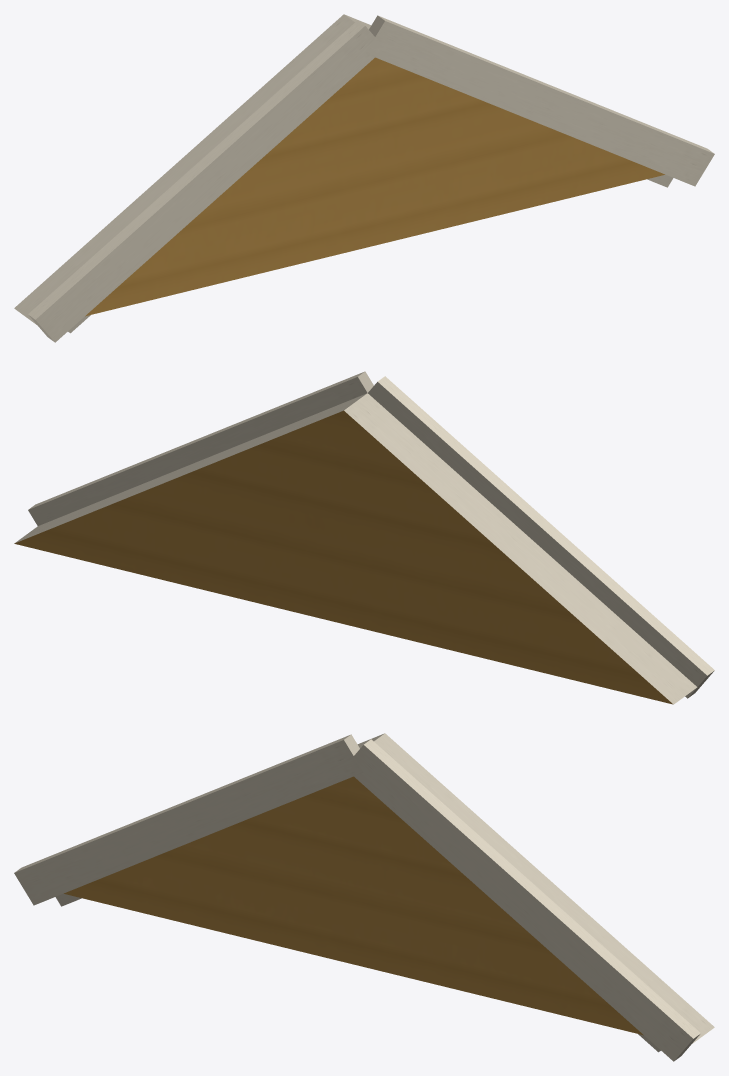
The model's file is house_03_gable.glb.
The picture shows the model from 3 angles, top to bottom: view 1: azimuth 30°, elevation 25°; view 2: azimuth 150°, elevation 25°; view 3: azimuth 330°, elevation 25°; orthographic projection.
Visible parts, largest first — view 1: outdoor_house_03_gable; view 2: outdoor_house_03_gable; view 3: outdoor_house_03_gable.
Boxes of the visible parts, x1,y1,x2,y2 form: outdoor_house_03_gable: [14, 14, 714, 342]; outdoor_house_03_gable: [14, 371, 714, 704]; outdoor_house_03_gable: [14, 733, 714, 1061].
Bounding box in the file's own units: 3 × 1.02 × 0.24.
1 material, 1 textured.
